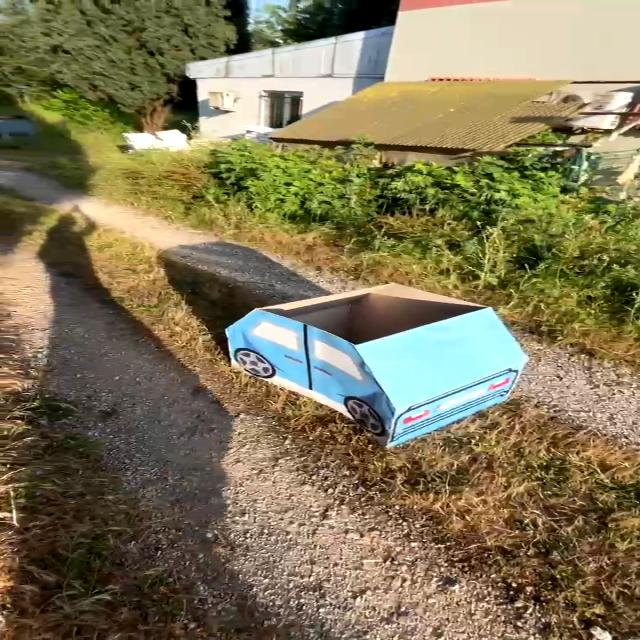blue_car: (178, 263, 581, 459)
